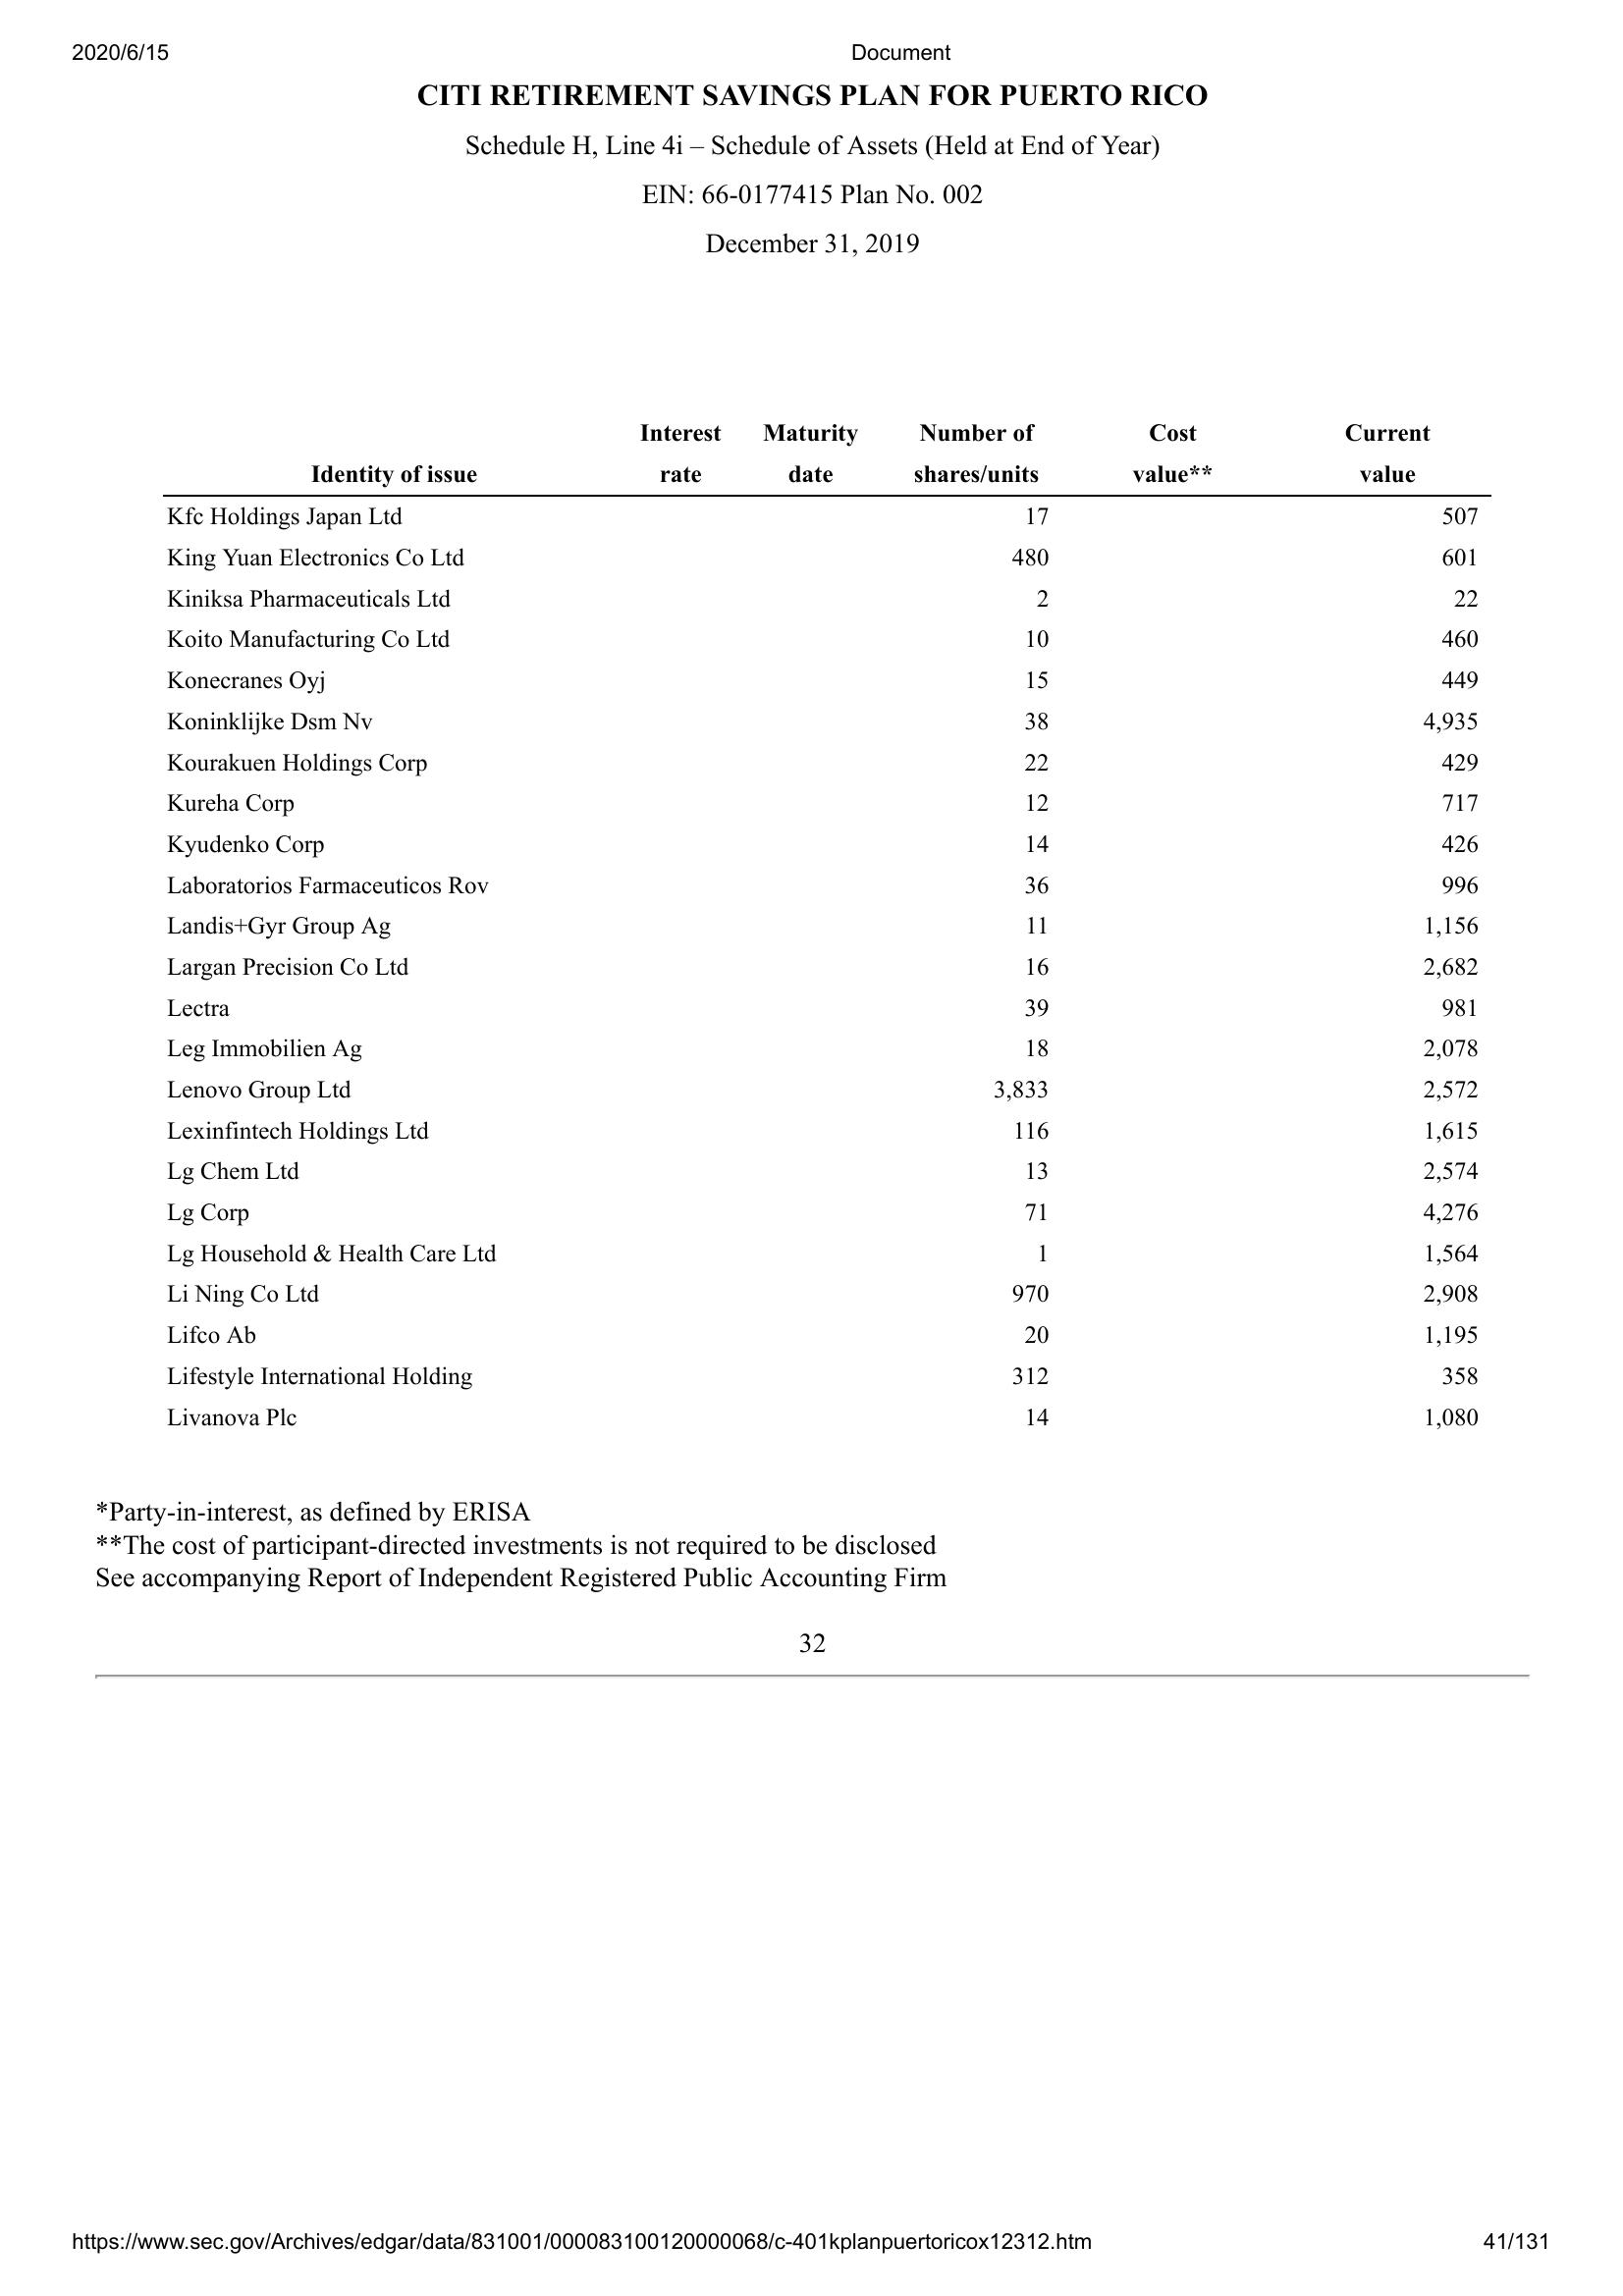table: (160, 420, 1488, 1446)
